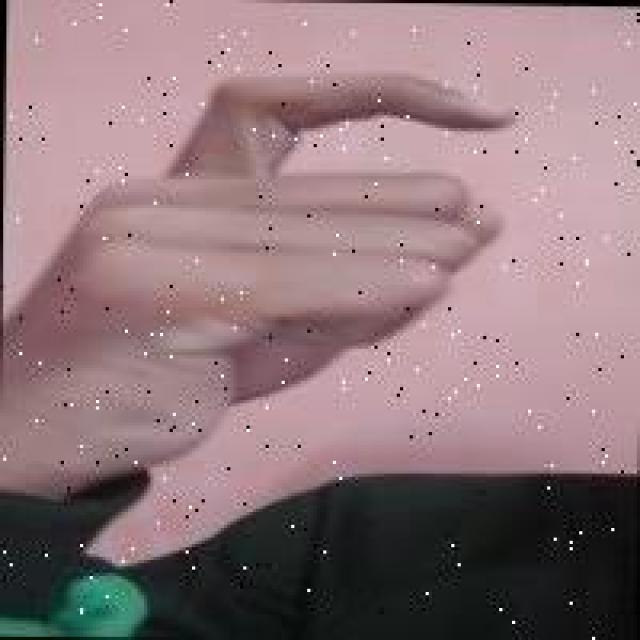X: (18, 66, 520, 482)
